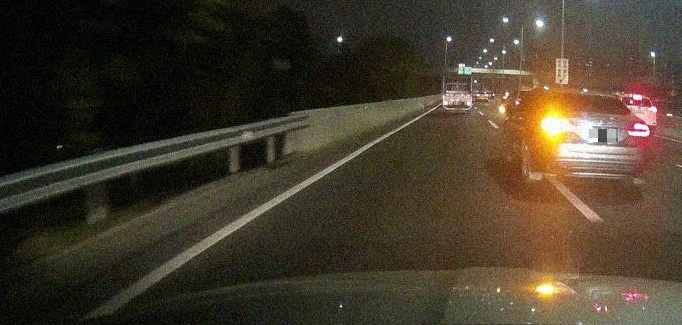L_light: (540, 118, 568, 133)
R_light: (626, 122, 650, 138)
T_light: (576, 93, 595, 98)
night-left: (534, 88, 651, 187)
plate_1: (589, 129, 618, 142)
